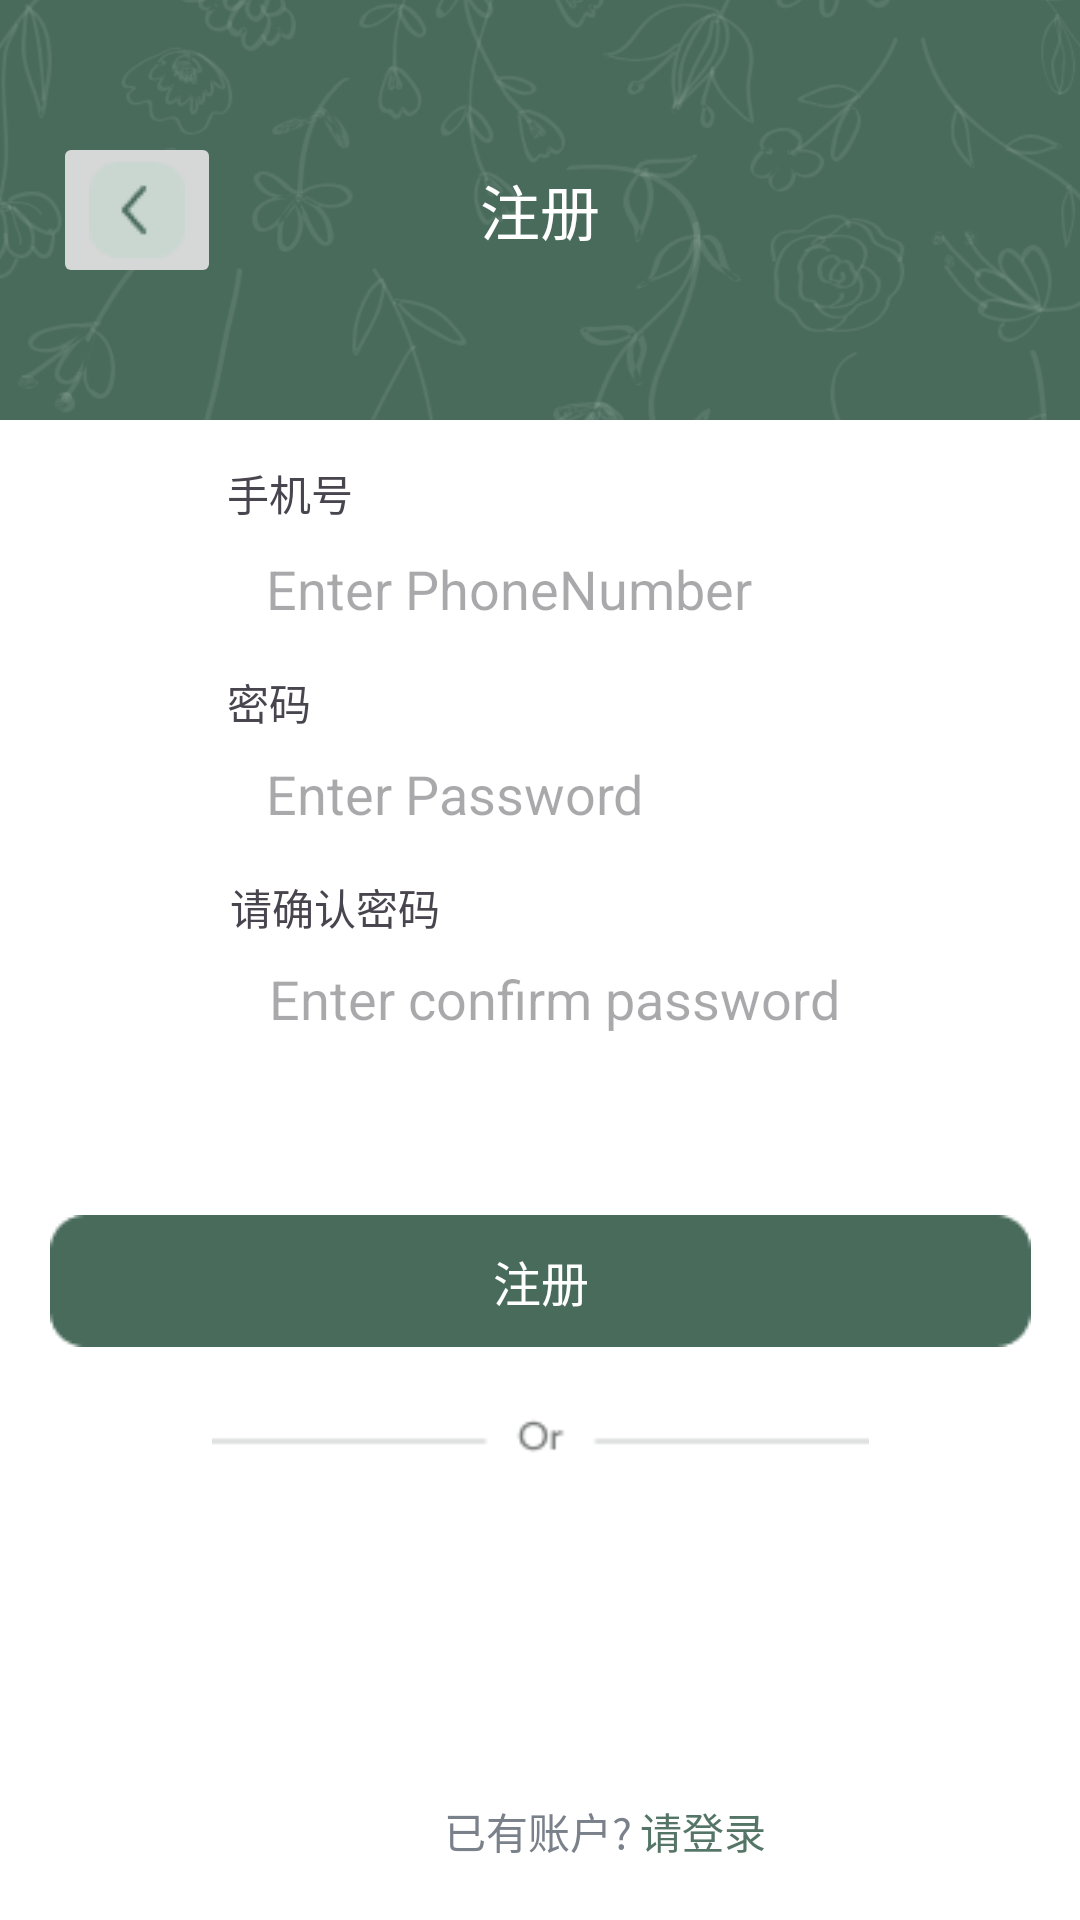

Icons on this 1080×1920 Android screen, each with the point to tap as (x=x, y=y):
back: (x=134, y=210)
